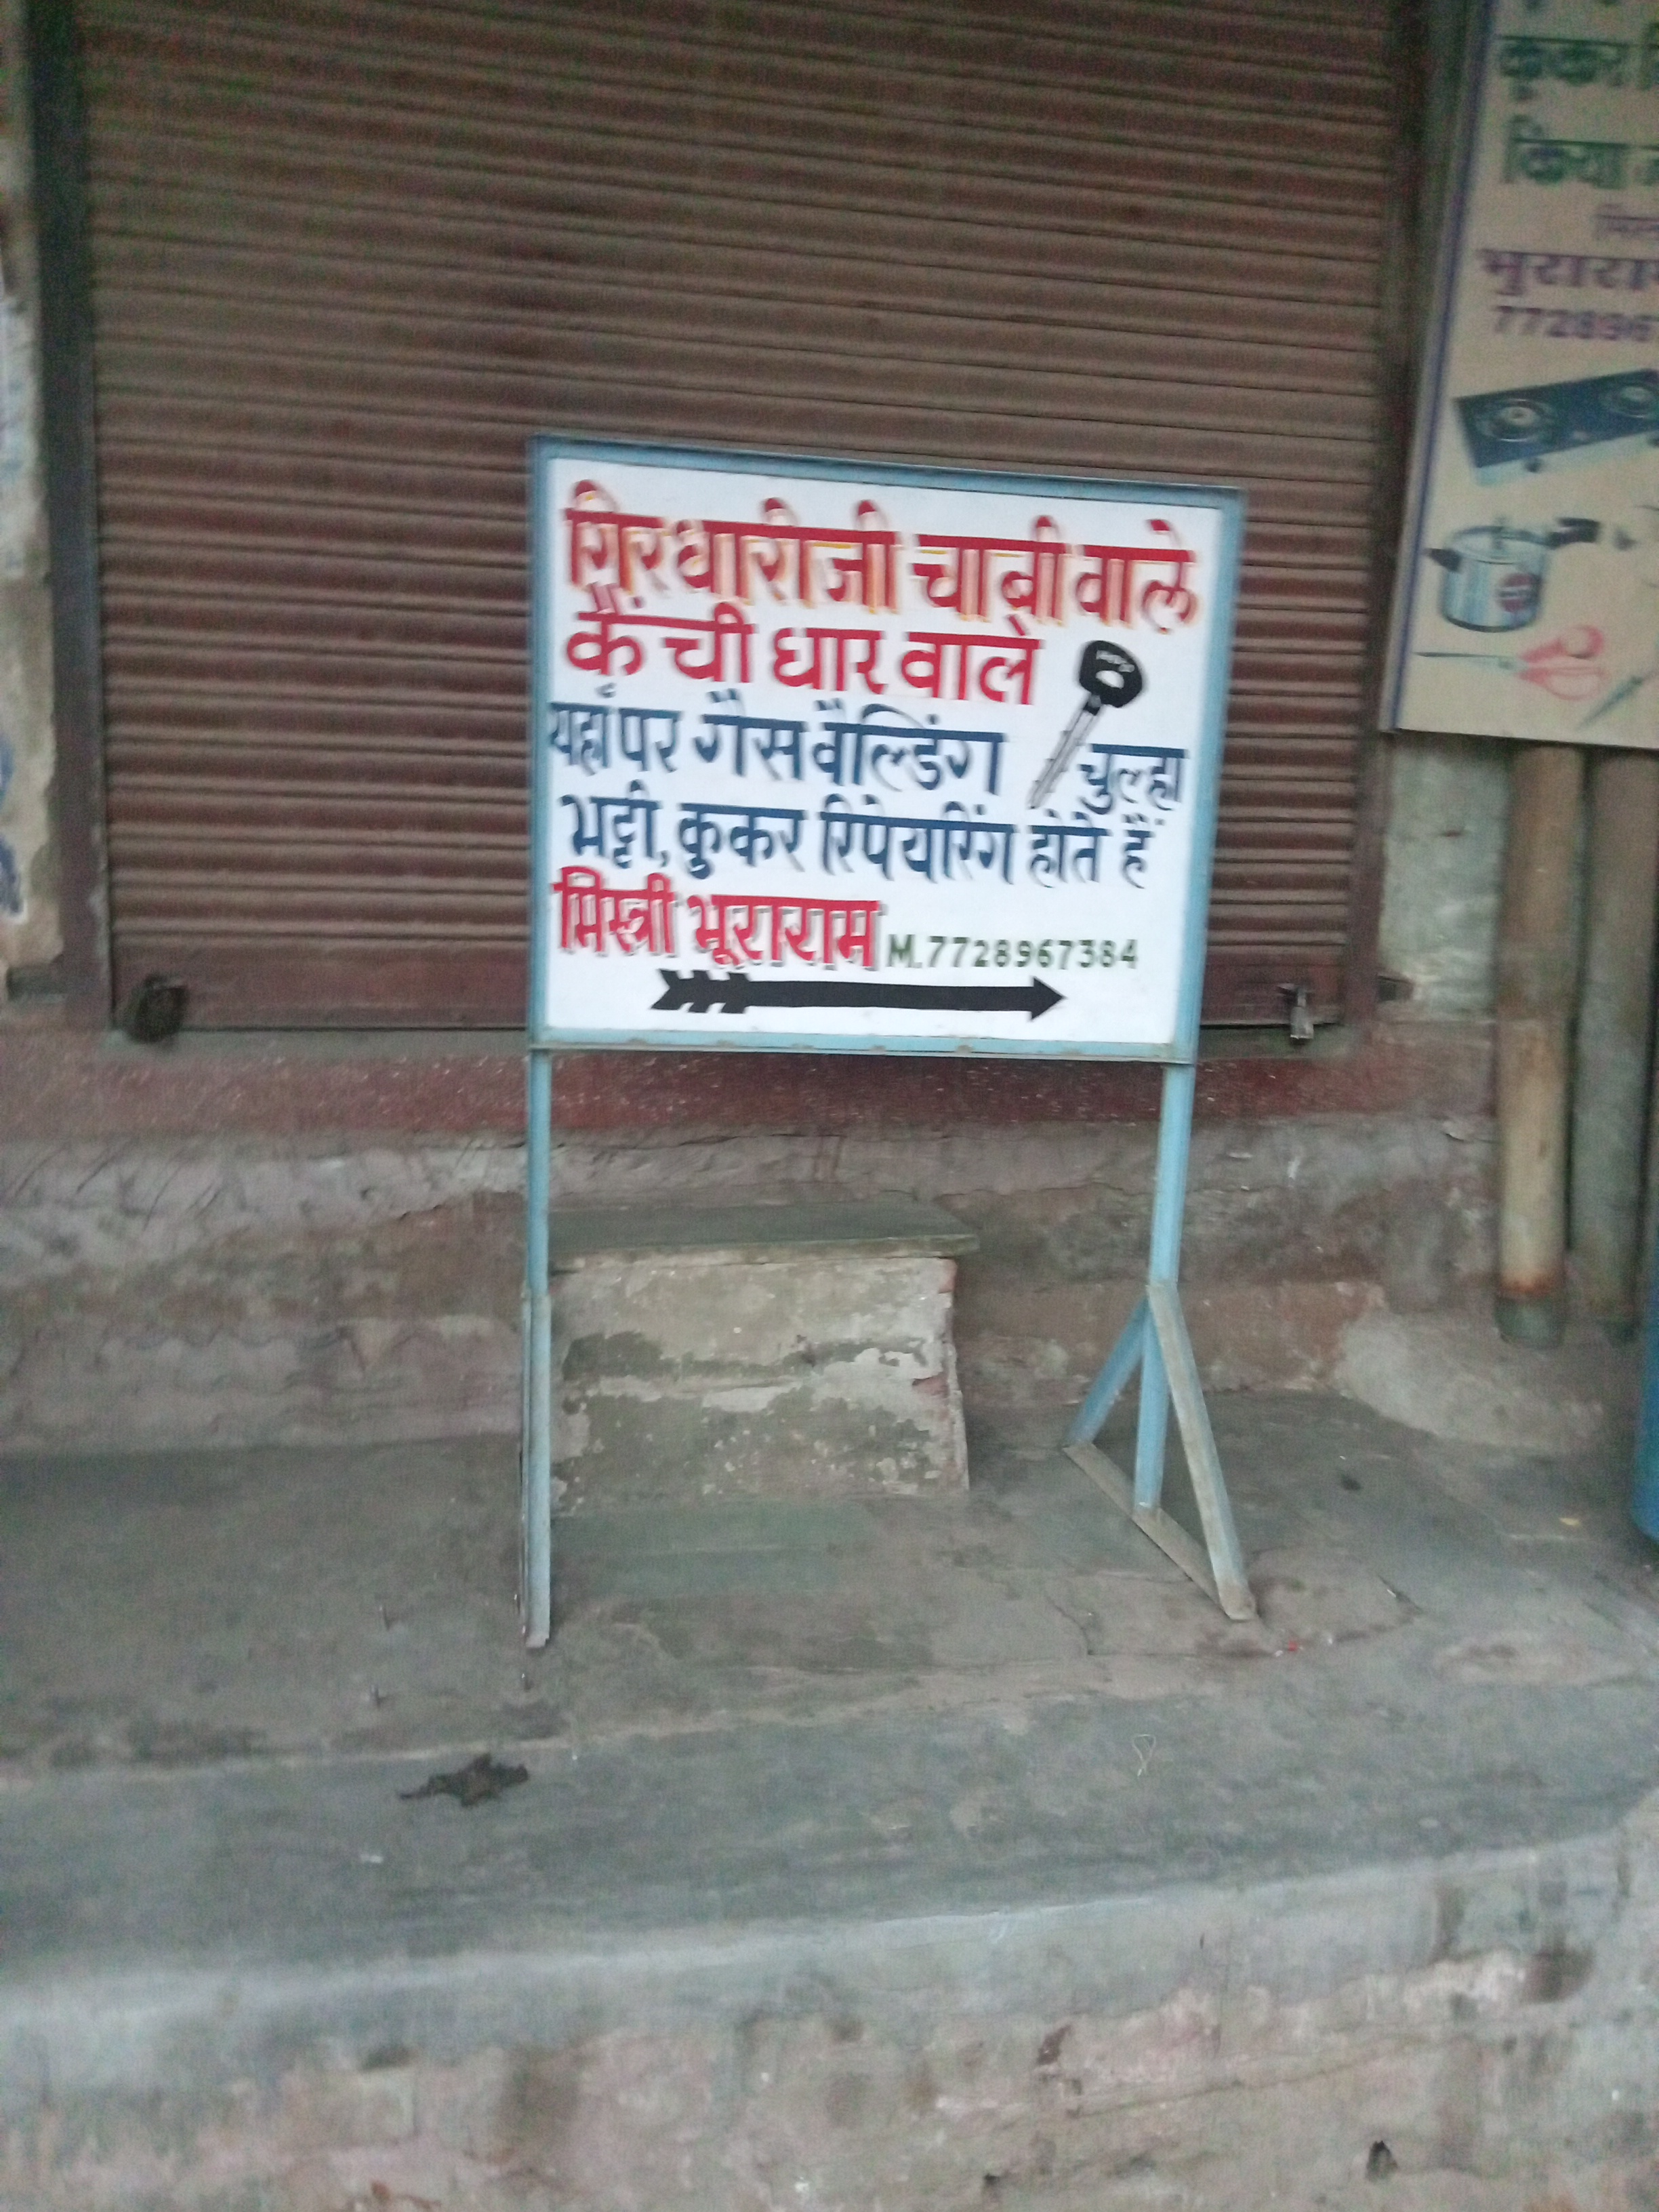text: (514, 435, 1256, 1042), (1382, 0, 1659, 766)
